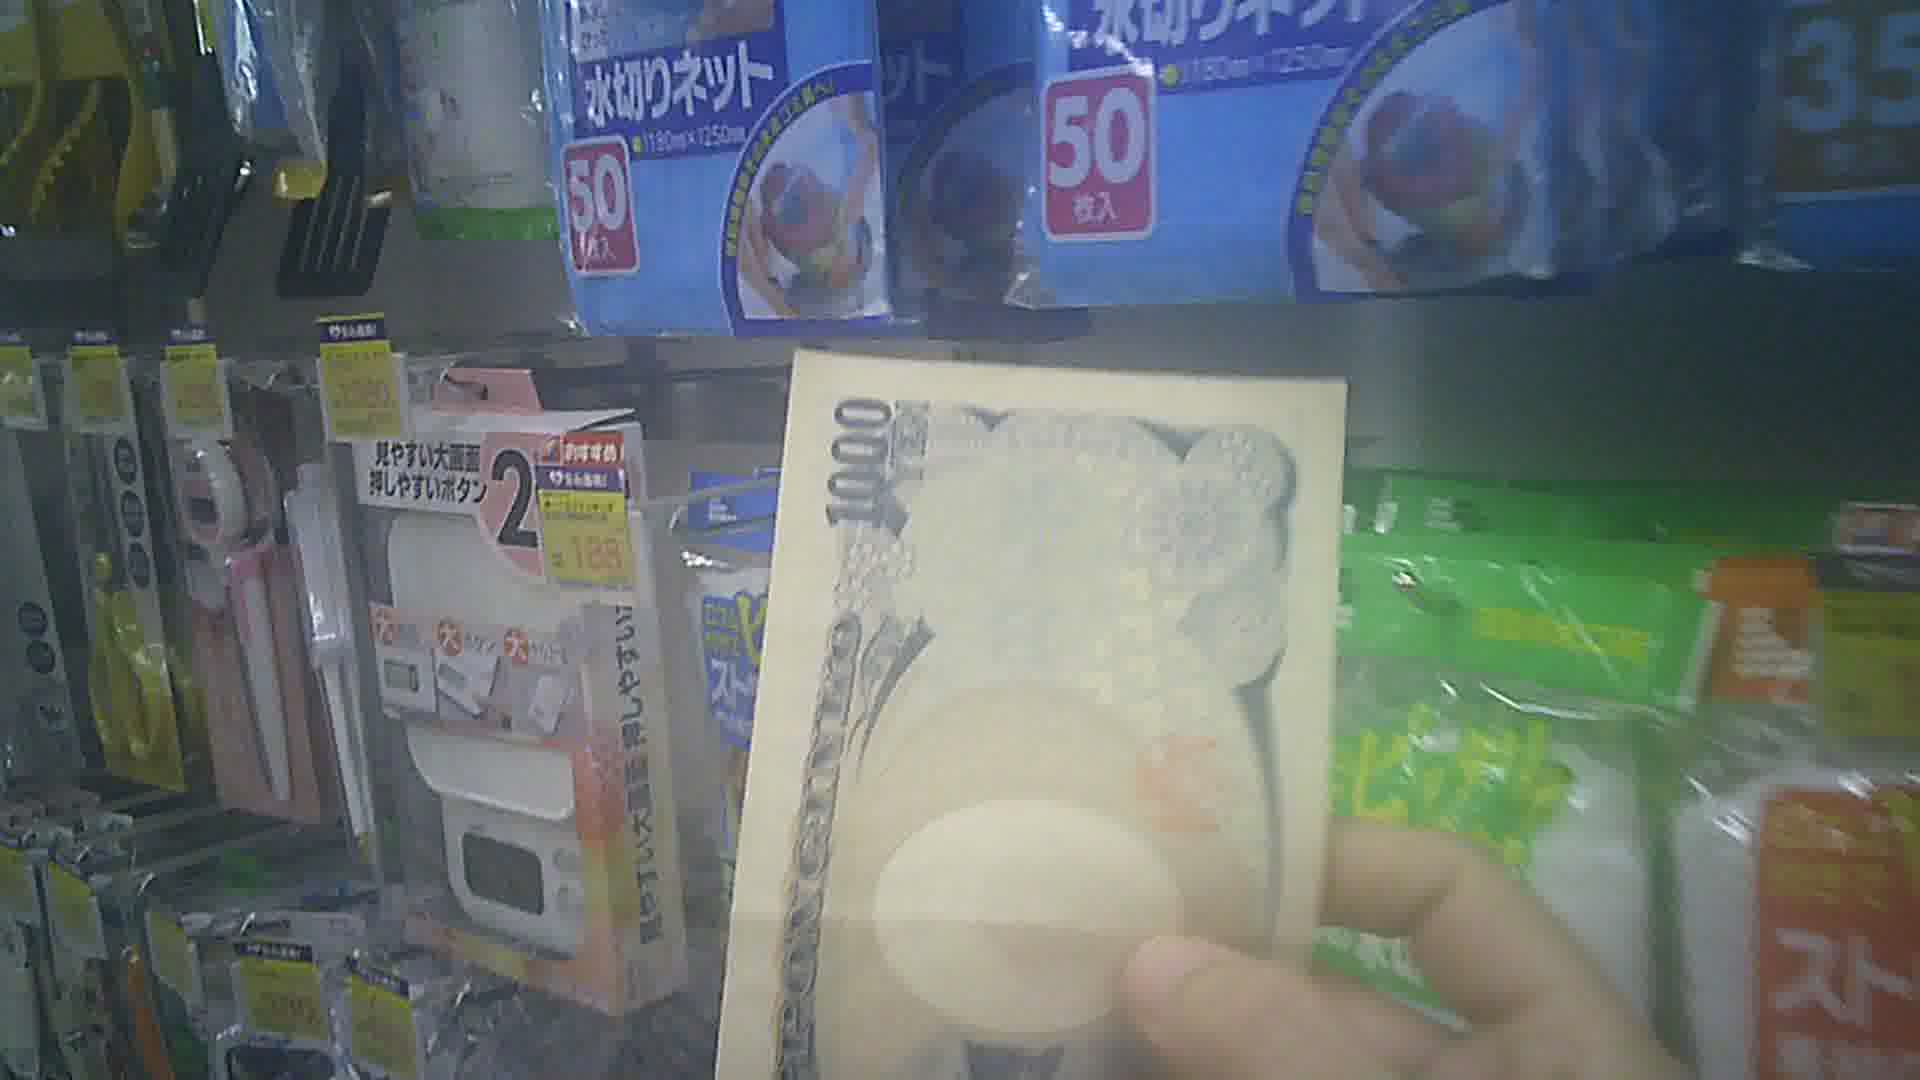1,000 Yen: (723, 332, 1367, 1079)
